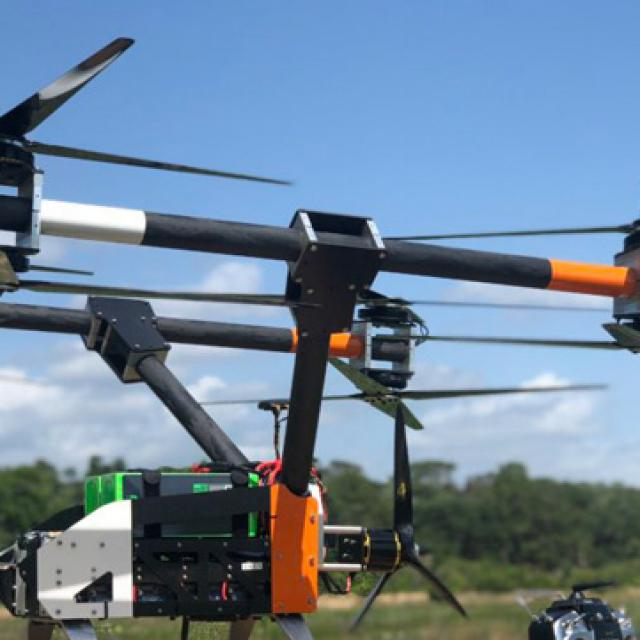drone: (0, 37, 640, 557)
